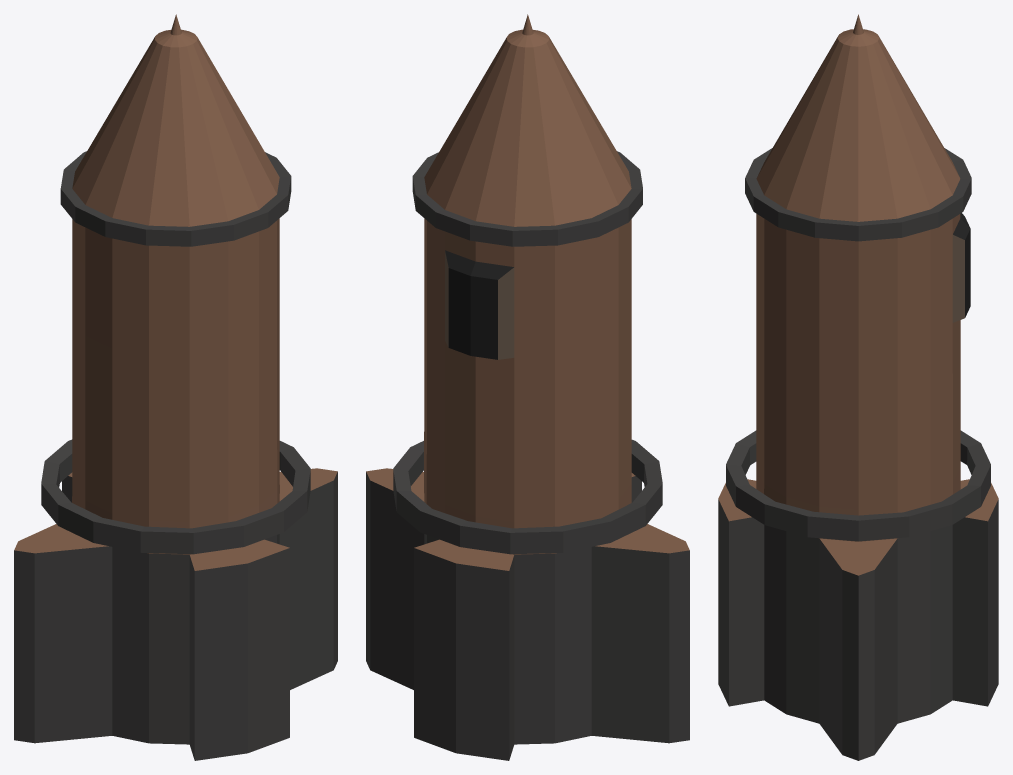
File: rocket.glb
3 renders of one model, left to right at view 1: azimuth 30°, elevation 25°; view 2: azimuth 150°, elevation 25°; view 3: azimuth 270°, elevation 25°, orthographic. The views are drawn at different scales.
Parts seen in each view (by area): view 1: Sphere; view 2: Sphere; view 3: Sphere.
Part boxes in pixels (<box>): Sphere: <box>14,14,337,760</box>; Sphere: <box>366,14,689,760</box>; Sphere: <box>718,14,998,760</box>.
Bounding box in the file's own units: 1.06 × 2.15 × 0.8167.
